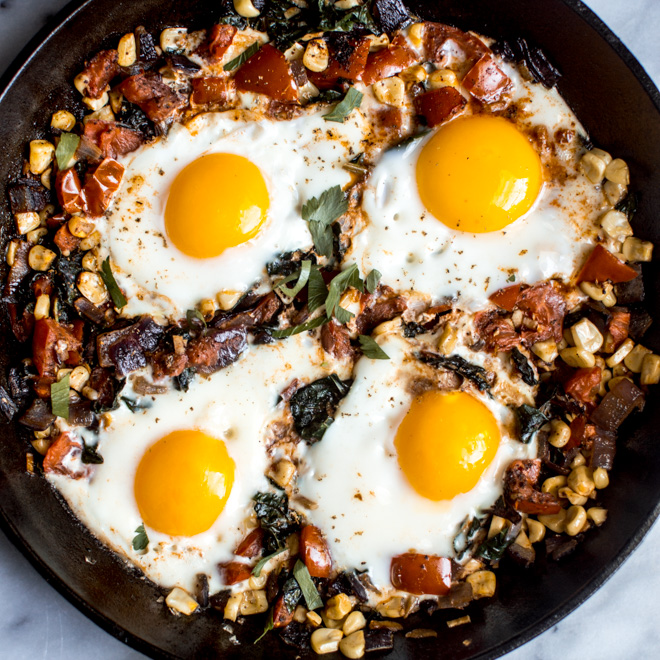fried egg: (120, 112, 282, 303), (392, 135, 582, 290), (110, 382, 253, 578), (333, 368, 493, 538)
